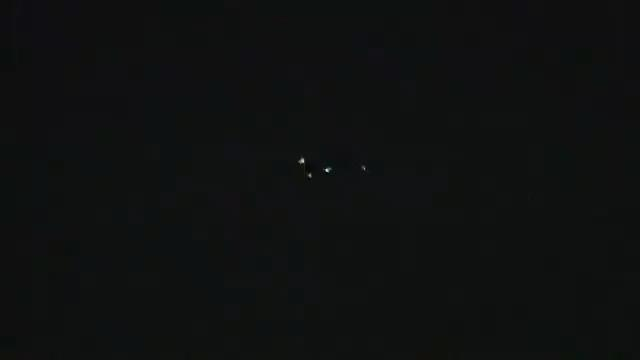Plane: (280, 150, 341, 185)
